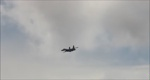maybay_muctieu: (59, 44, 81, 54)
